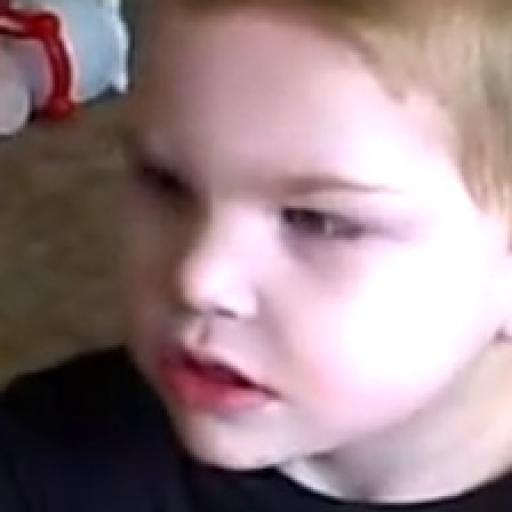Autism: (105, 0, 512, 507)
